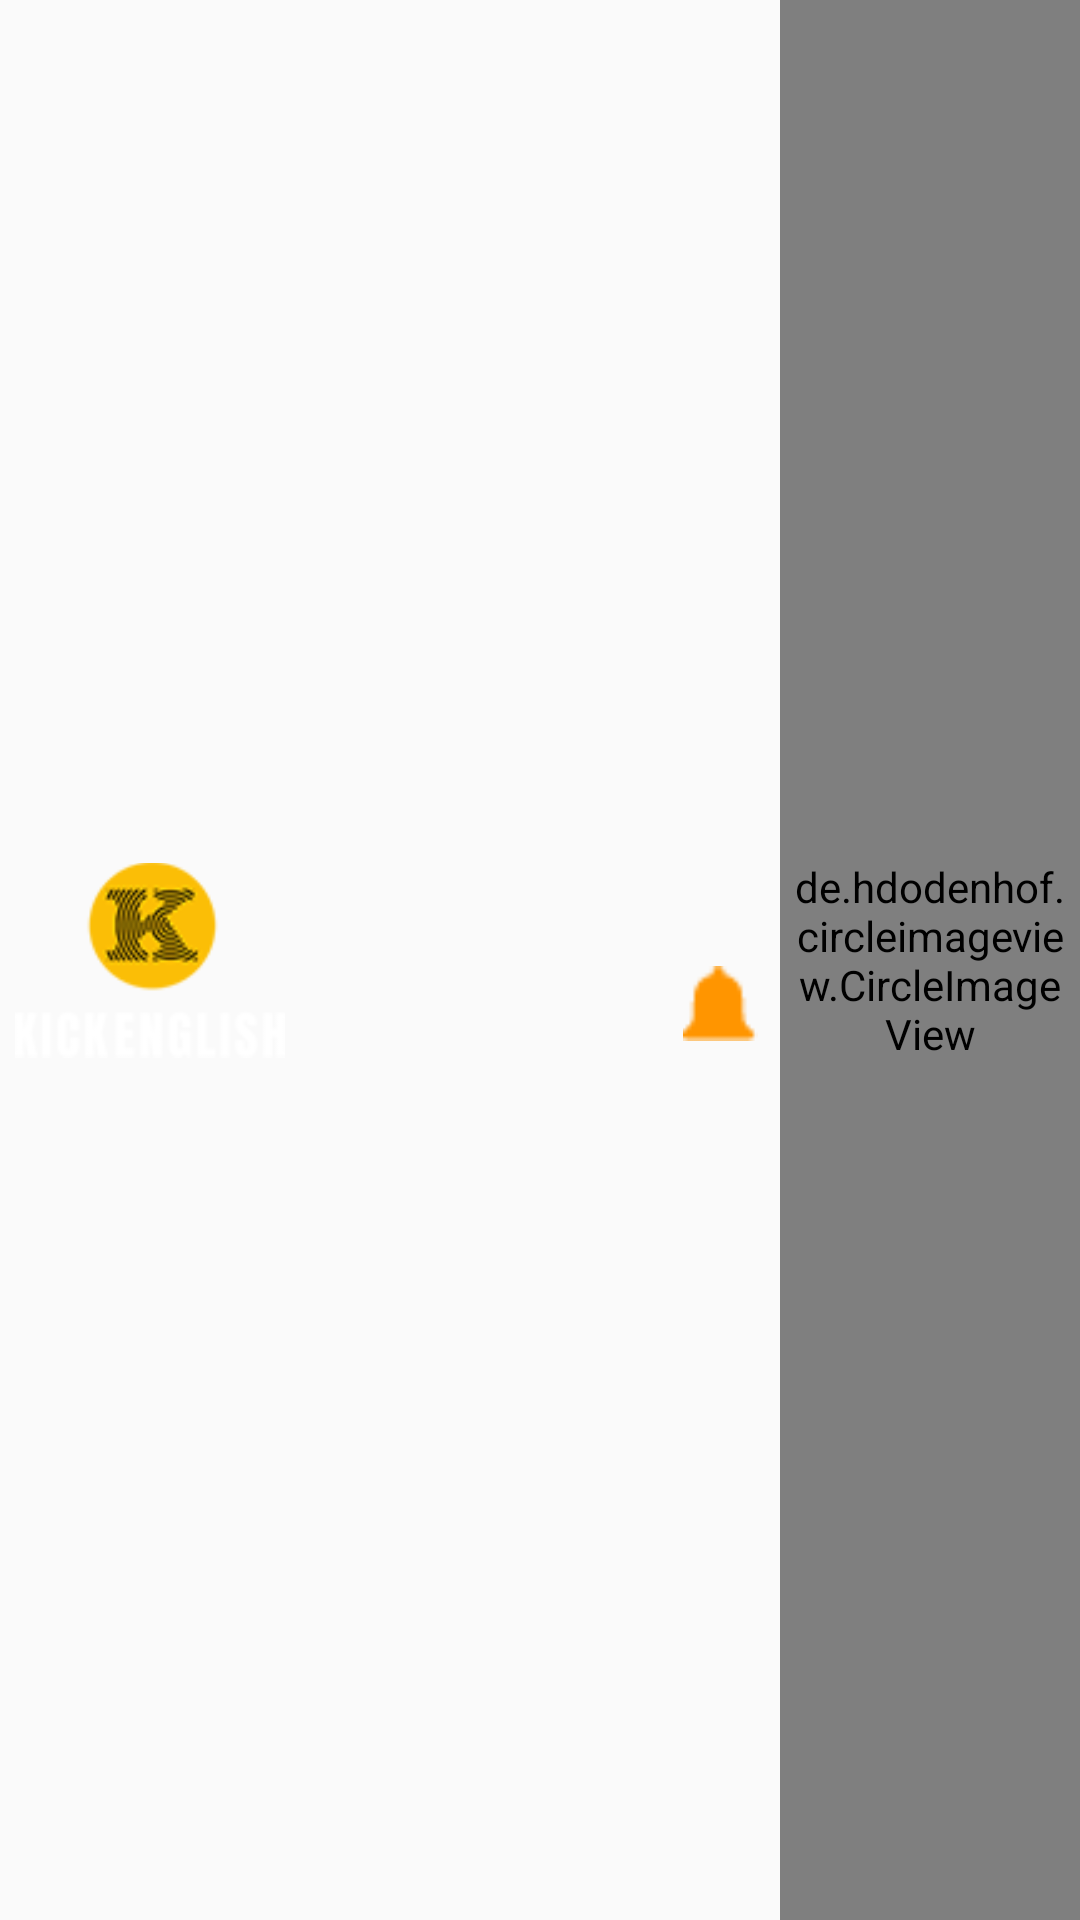

Icons on this 1080px×1920px Android screen, each with the point to tap as (x=x, y=y):
notification: (x=719, y=1003)
